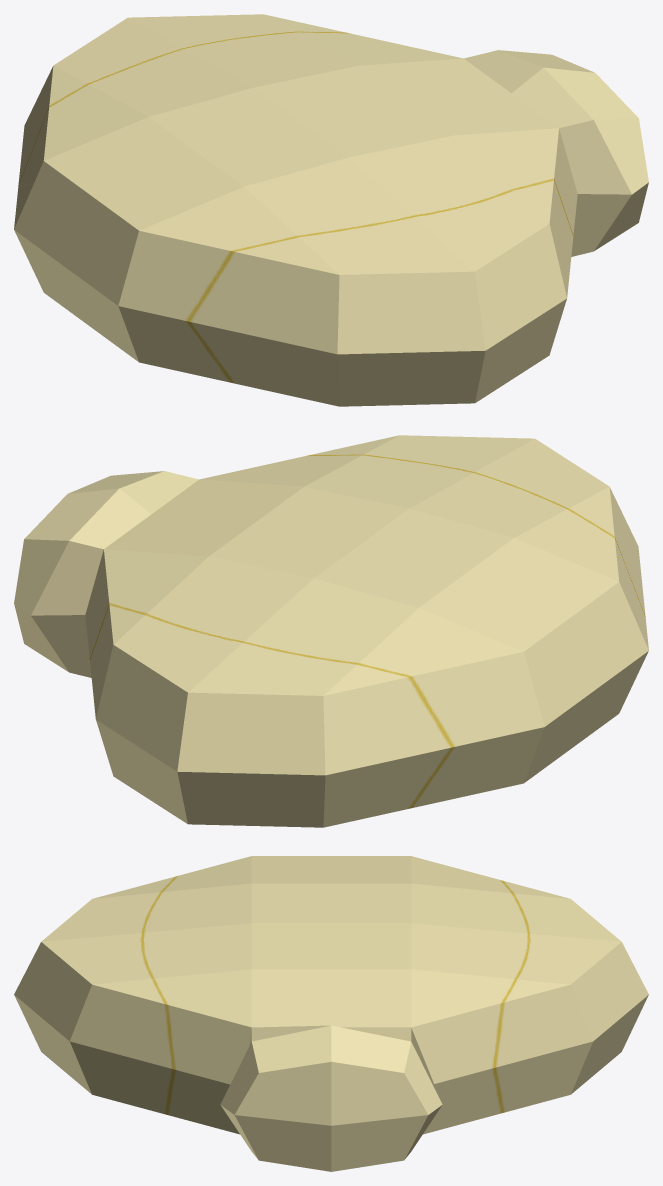
Rendered from shell2.fbx.
3 renders of one model, top to bottom at view 1: azimuth 30°, elevation 25°; view 2: azimuth 150°, elevation 25°; view 3: azimuth 270°, elevation 25°, orthographic. The views are drawn at different scales.
Parts seen in each view (by area): view 1: Cube; view 2: Cube; view 3: Cube.
Part boxes in pixels (x1,y1,x2,y2): Cube: (14,14,648,406); Cube: (14,435,648,827); Cube: (14,856,648,1171).
Size of the model in its own units: 313 by 95.57 by 374.
Materials: 1 (1 with a texture image).
